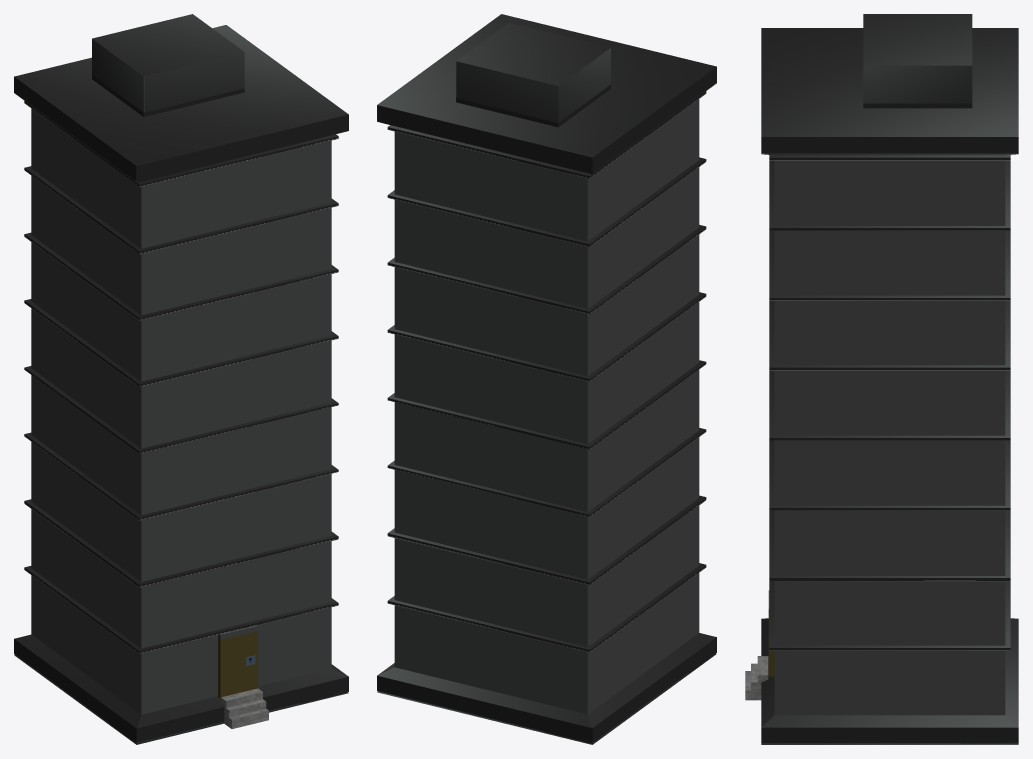
File: EdificioPro1mas largo.FBX
The picture shows the model from 3 angles, left to right: view 1: azimuth 30°, elevation 25°; view 2: azimuth 150°, elevation 25°; view 3: azimuth 270°, elevation 25°; orthographic projection. The views are drawn at different scales.
Visible parts, largest first — view 1: default; view 2: default; view 3: default.
Boxes of the visible parts, x1=… form: default: x1=14, y1=14, x2=348, y2=744; default: x1=377, y1=14, x2=716, y2=744; default: x1=745, y1=14, x2=1018, y2=744.
Size of the model in its own units: 2 by 5.58 by 2.12.
1 material, 1 textured.
